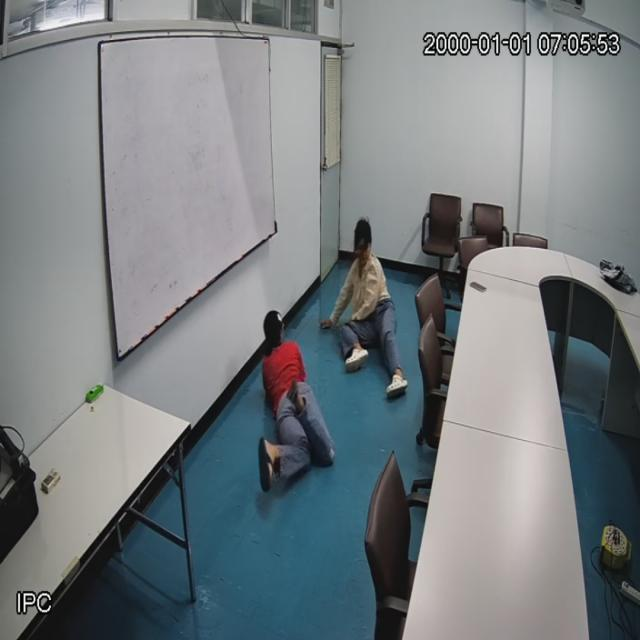fall: (256, 311, 329, 483), (331, 217, 400, 386)
